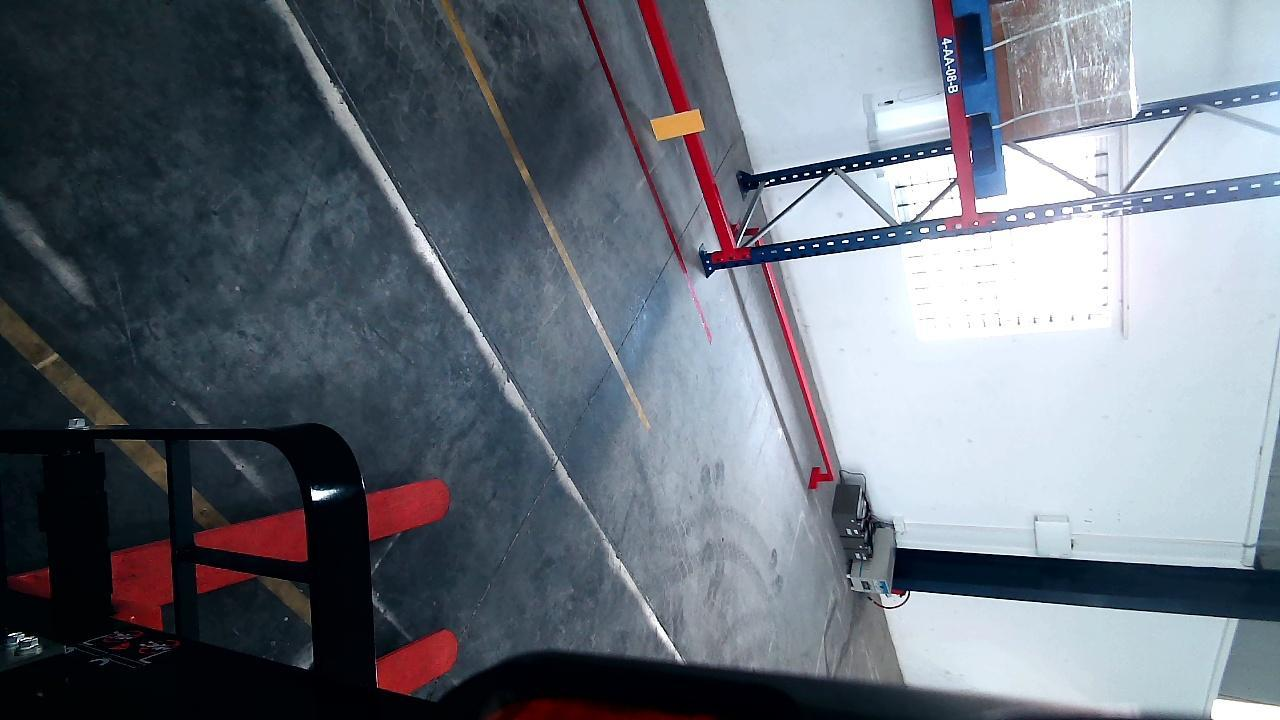red_line: (575, 4, 714, 348)
yellow_line: (2, 297, 313, 629), (440, 2, 652, 429)
